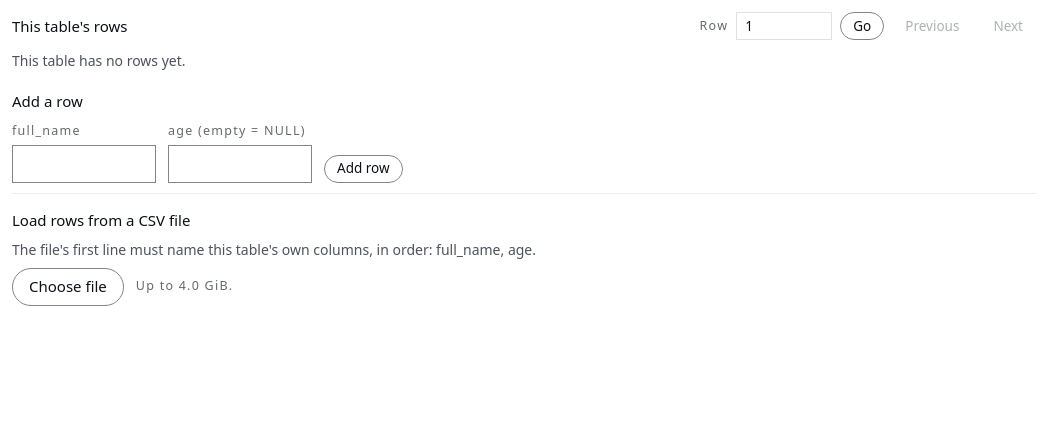
the table builder's own data panel › shows the server's own row and column when adding a row is refused, not only the generic sentence
Expected: the text "This table has no rows yet." is shown, [12, 51, 186, 70]
Type "Ada" into the field labelled "full_name" at (84, 164), box [12, 145, 156, 183]
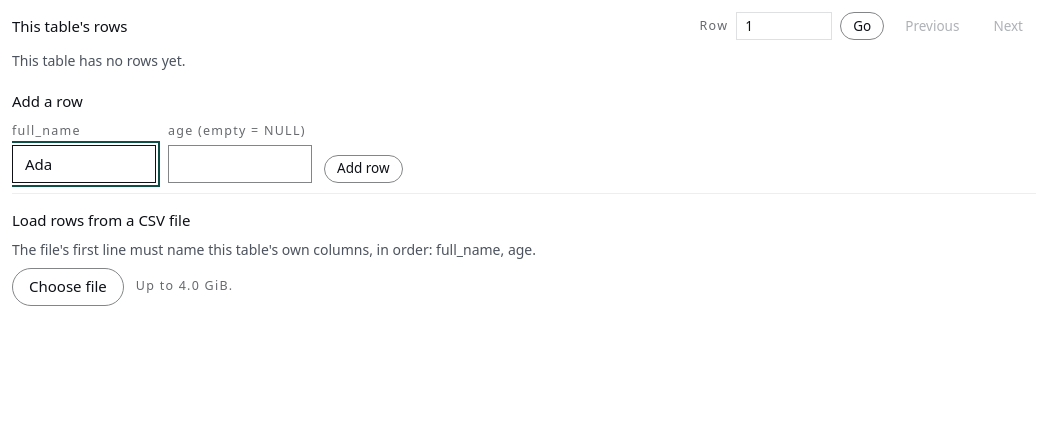
Type "old" into the number field labelled "age (empty = NULL)" at (240, 164), box [168, 145, 312, 183]
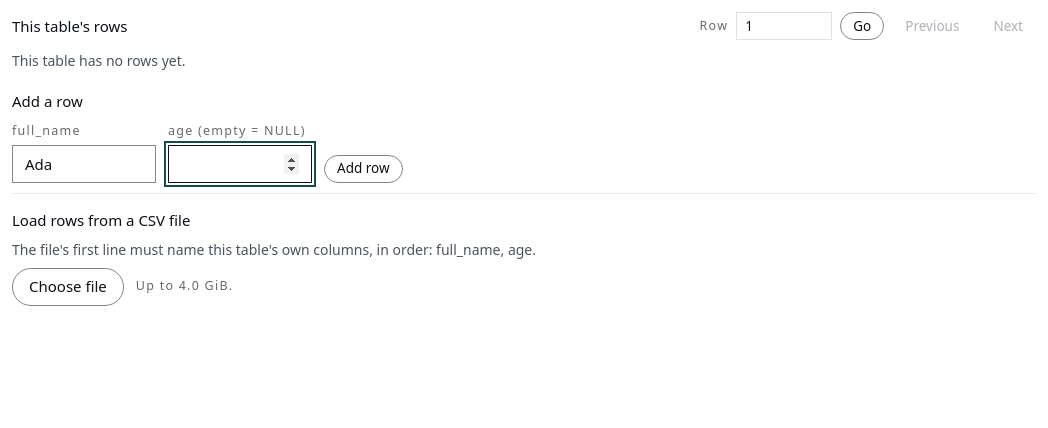
Click the button "Add row" at (363, 169), box [324, 155, 403, 183]
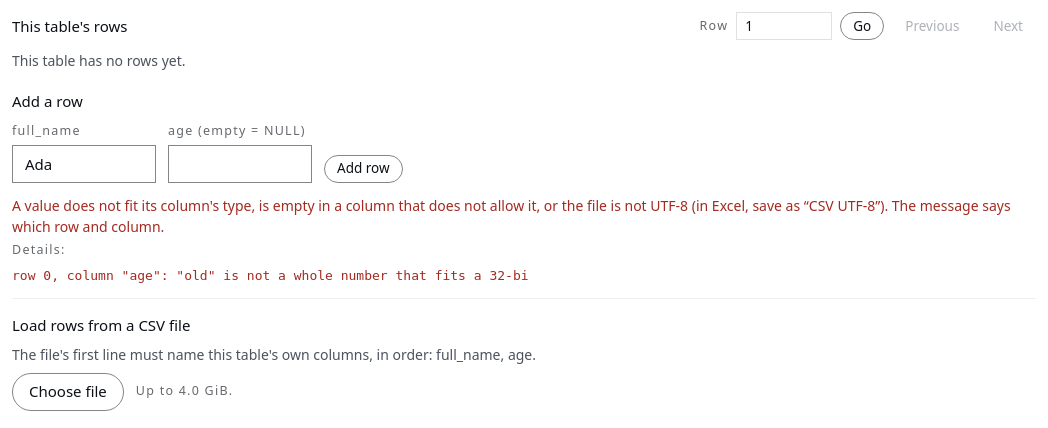
Now the text "row 0, column \"age\": \"old\" is not a whole number that fits a 32-bit integer" is shown, box [12, 264, 528, 288]
Now the text "A value does not fit its column's type, is empty in a column that does not allow it, or the file is not UTF-8 (in Excel," is shown, box [12, 196, 1011, 236]
